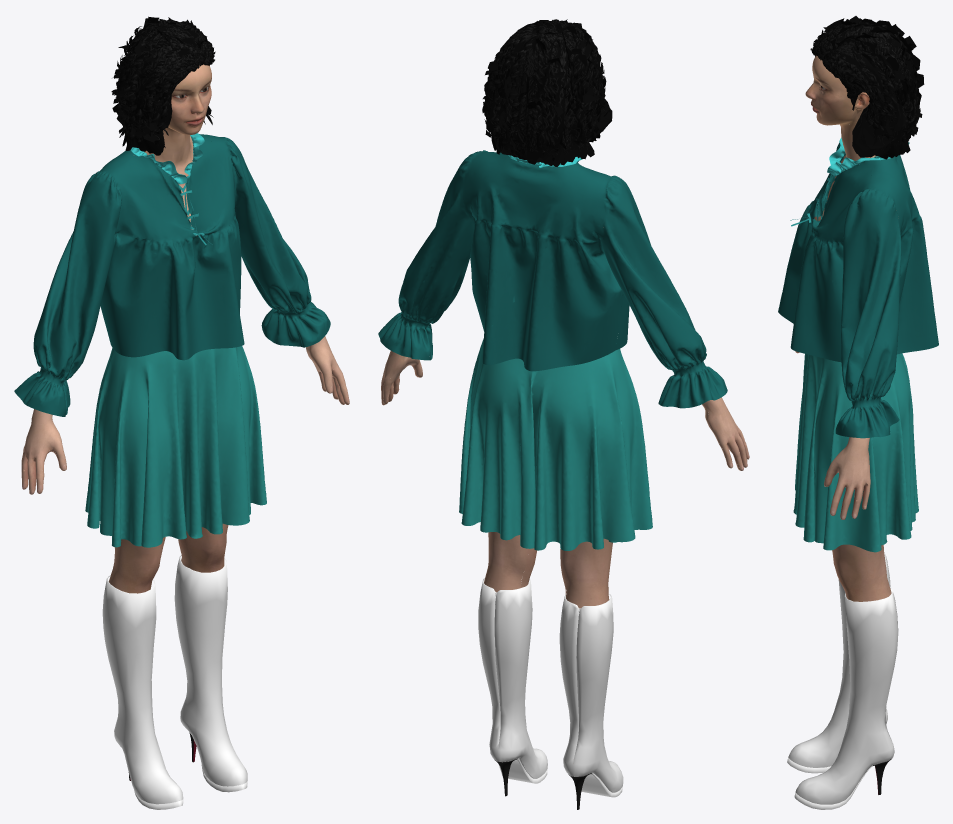
The picture shows the model from 3 angles, left to right: view 1: azimuth 30°, elevation 25°; view 2: azimuth 150°, elevation 25°; view 3: azimuth 270°, elevation 25°; orthographic projection. The views are drawn at different scales.
Visible parts, largest first — view 1: Cloth, Avatar; view 2: Cloth, Avatar; view 3: Cloth, Avatar.
Part boxes in pixels (bbox=[...]): Cloth: bbox=[14, 133, 330, 547]; Avatar: bbox=[21, 16, 349, 809]; Cloth: bbox=[378, 150, 727, 550]; Avatar: bbox=[381, 19, 749, 809]; Cloth: bbox=[778, 137, 938, 552]; Avatar: bbox=[787, 16, 924, 809].
Bounding box in the file's own units: 0.7874 × 1.71 × 0.3264.
Materials: 19 (13 with a texture image).
